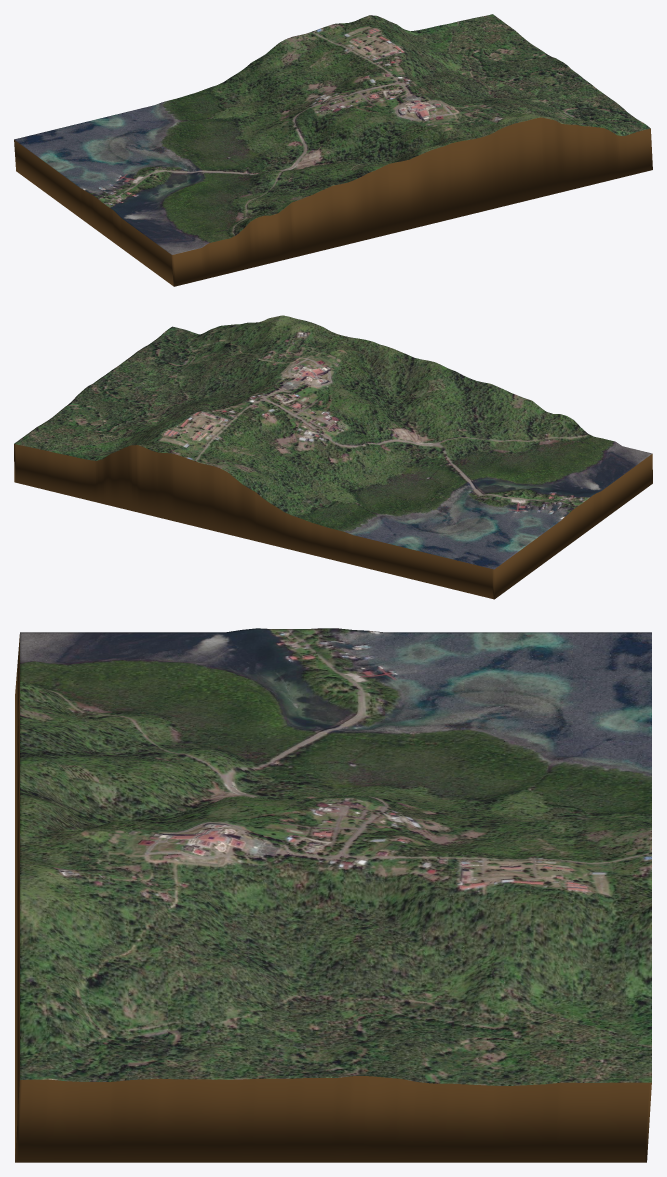
Rendered from kantor-gub-3D.glb.
3 views of the same model, one above another, from view 1: azimuth 30°, elevation 25°; view 2: azimuth 150°, elevation 25°; view 3: azimuth 270°, elevation 25° (orthographic). The views are drawn at different scales.
Parts seen in each view (by area): view 1: EXPORT_ESRI_AERIAL_WM; view 2: EXPORT_ESRI_AERIAL_WM; view 3: EXPORT_ESRI_AERIAL_WM.
Boxes of the visible parts, left/top/right/bottom form: EXPORT_ESRI_AERIAL_WM: left=14, top=14, right=652, bottom=286; EXPORT_ESRI_AERIAL_WM: left=14, top=315, right=652, bottom=599; EXPORT_ESRI_AERIAL_WM: left=15, top=628, right=651, bottom=1162.
Size of the model in its own units: 2144 by 338 by 1233.
Materials: 2 (1 with a texture image).
